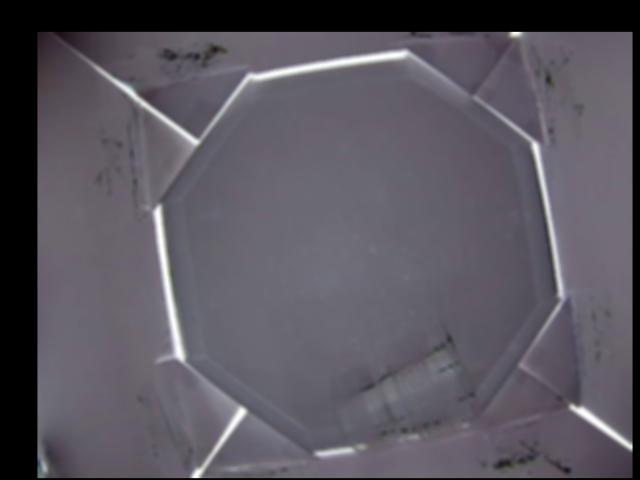Cup: (332, 321, 479, 453)
